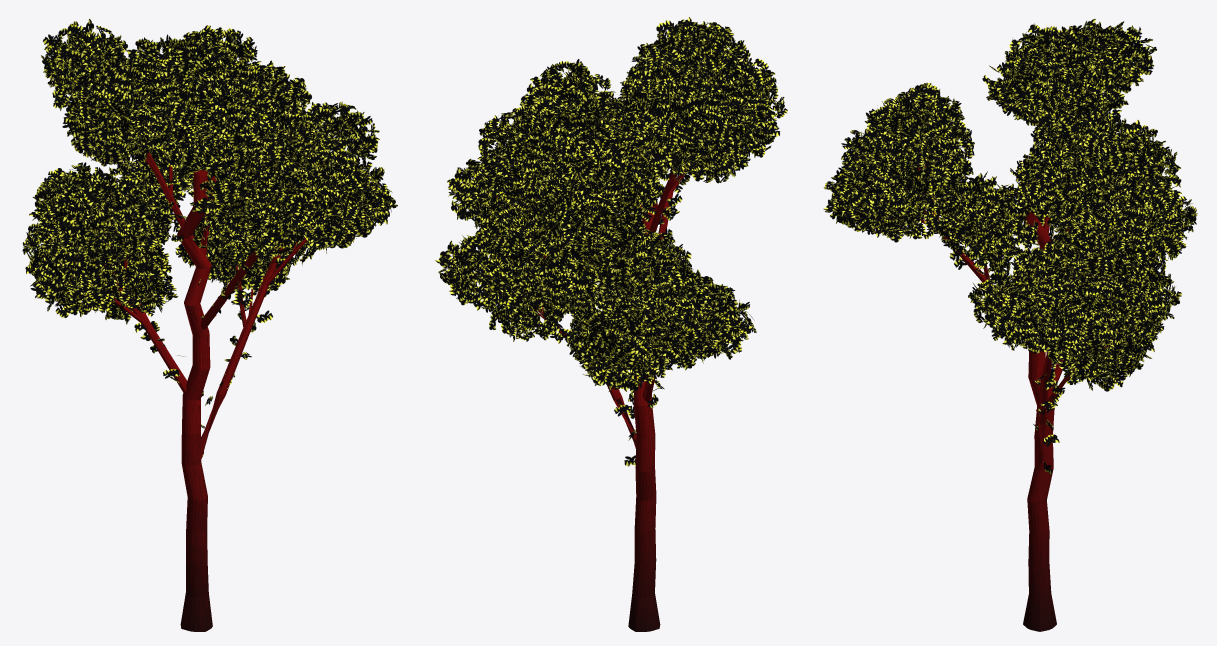
Rendered from cottonwood_river_v02.glb.
3 views of the same model, side by side, from view 1: azimuth 30°, elevation 25°; view 2: azimuth 150°, elevation 25°; view 3: azimuth 270°, elevation 25° (orthographic). The views are drawn at different scales.
Visible parts, largest first — view 1: cottonwood_river_v02; view 2: cottonwood_river_v02; view 3: cottonwood_river_v02.
Part boxes in pixels (x1,y1,x2,y2): cottonwood_river_v02: (22,19,397,631); cottonwood_river_v02: (435,17,787,631); cottonwood_river_v02: (823,18,1197,631).
Size of the model in its own units: 19.93 by 34.07 by 20.66.
Materials: 2 (2 with a texture image).
